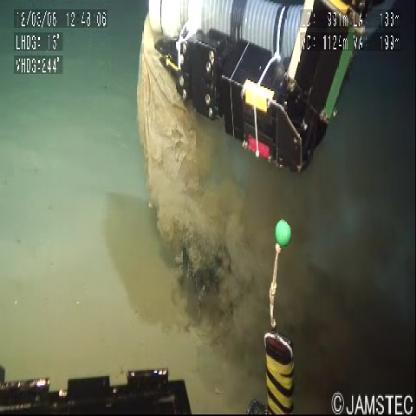Rác: (138, 16, 211, 204)
